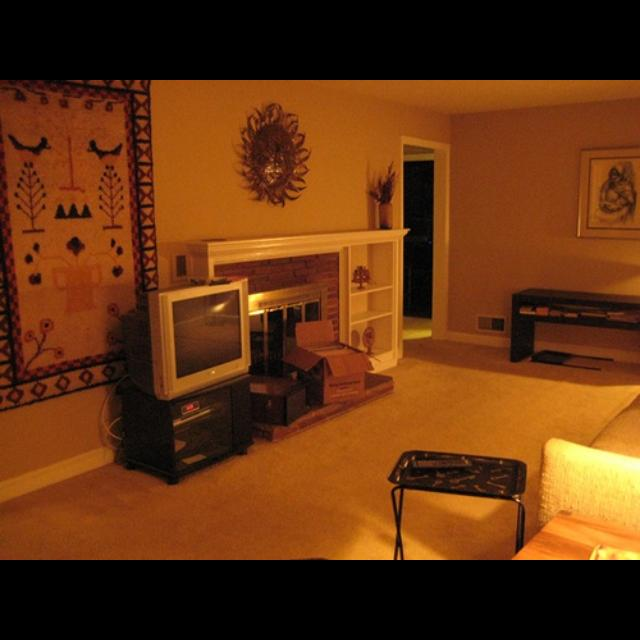TV-Remote-Control: (406, 456, 473, 473)
